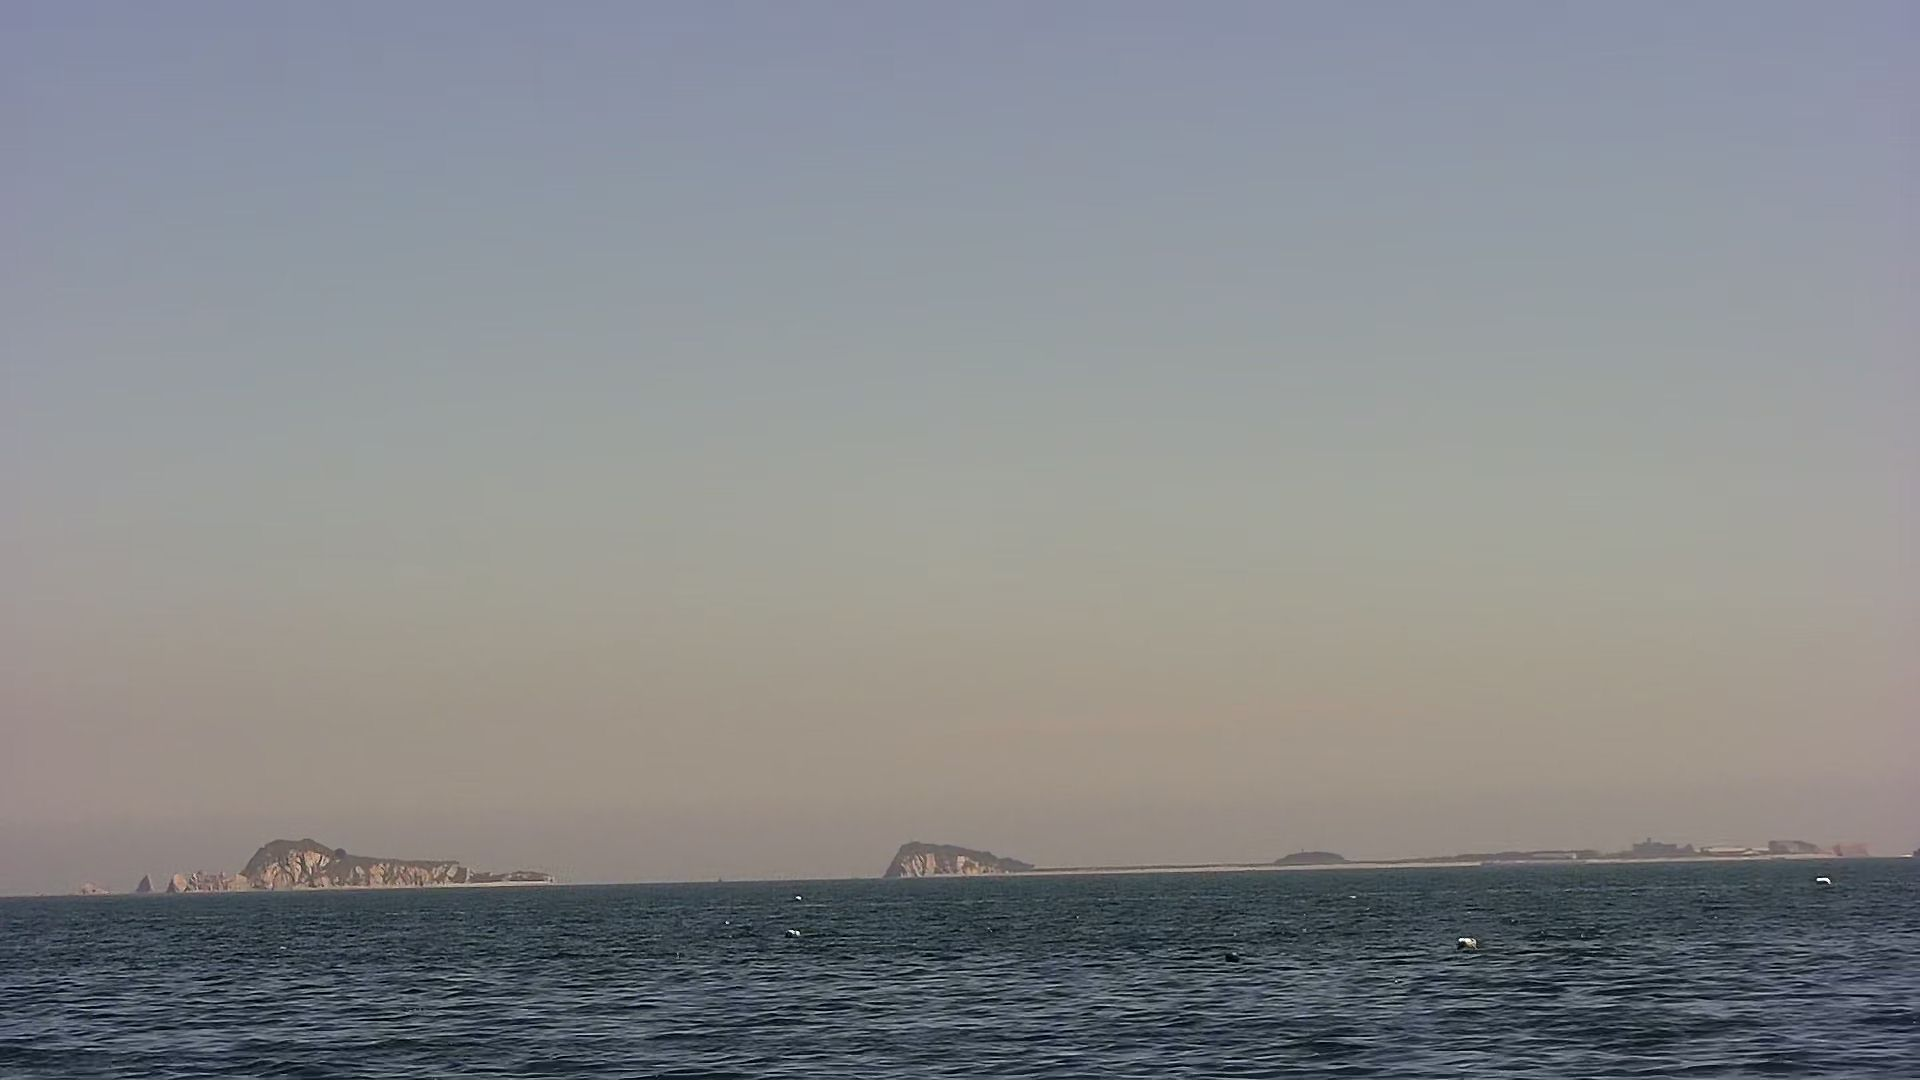ball: (779, 918, 811, 942), (1217, 947, 1249, 967)
rock: (132, 837, 567, 894), (1447, 837, 1873, 858), (868, 835, 1072, 877), (1261, 847, 1358, 862)
rubbish: (1451, 927, 1491, 955)
